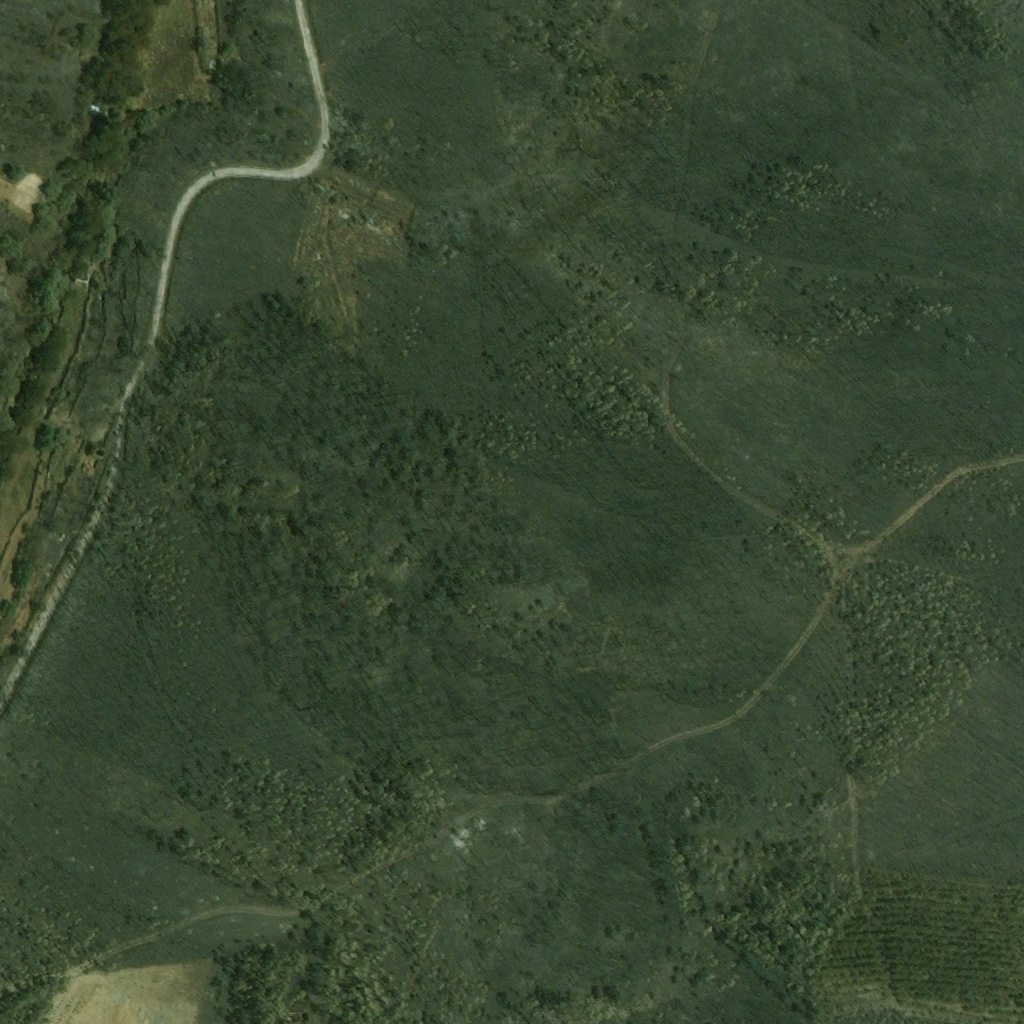4 un-classified: (89, 96, 101, 114)
